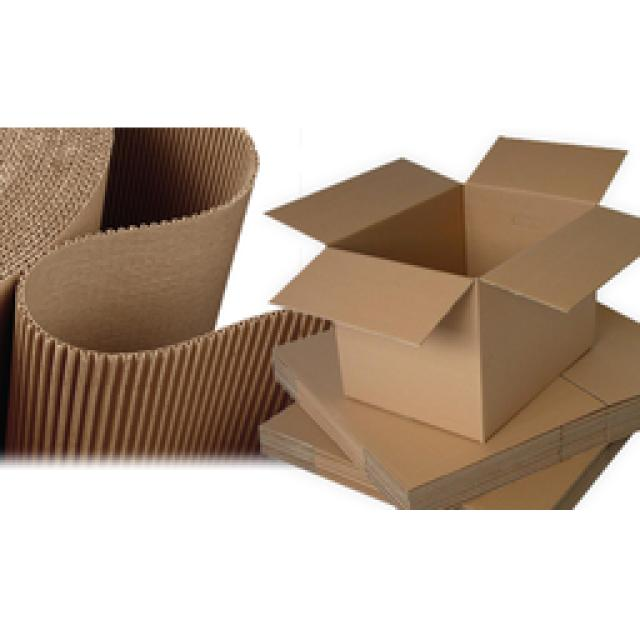cardboard: (0, 128, 638, 508)
